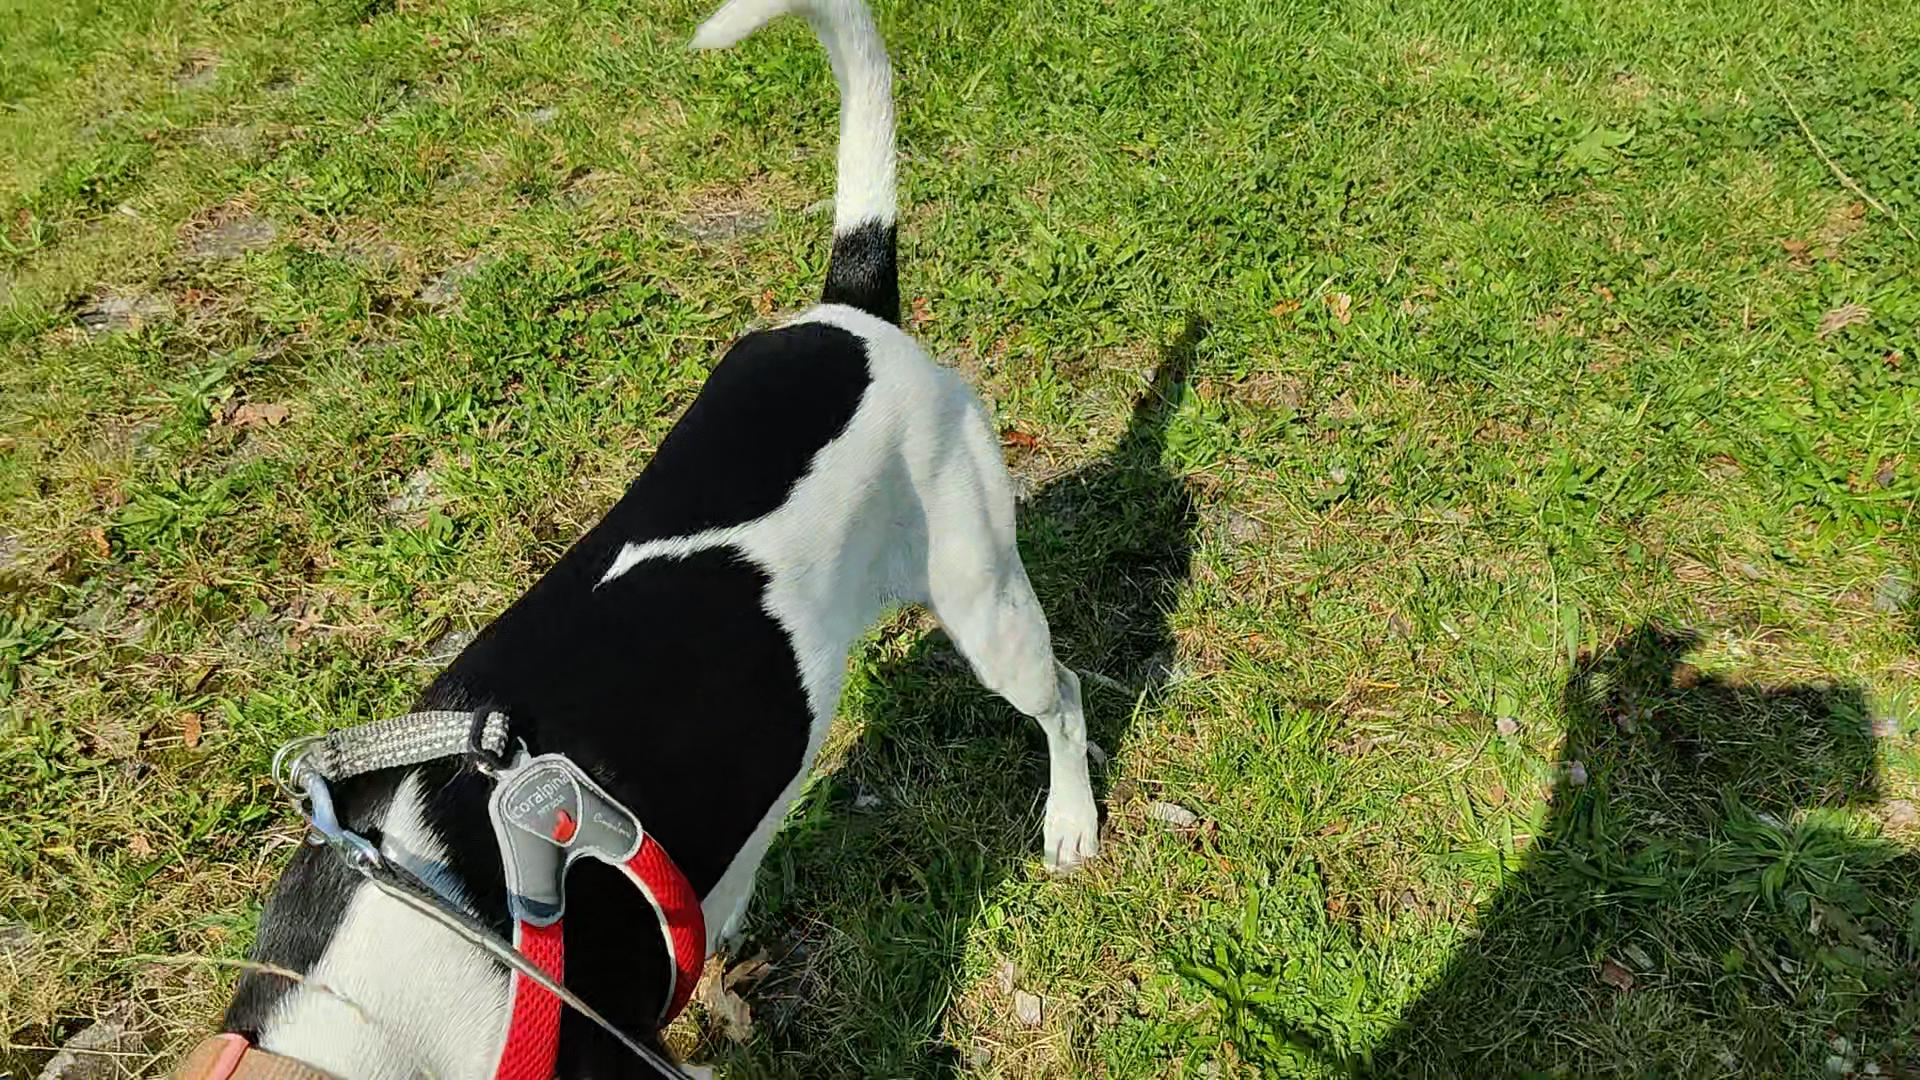Dog: (150, 0, 1105, 1079)
